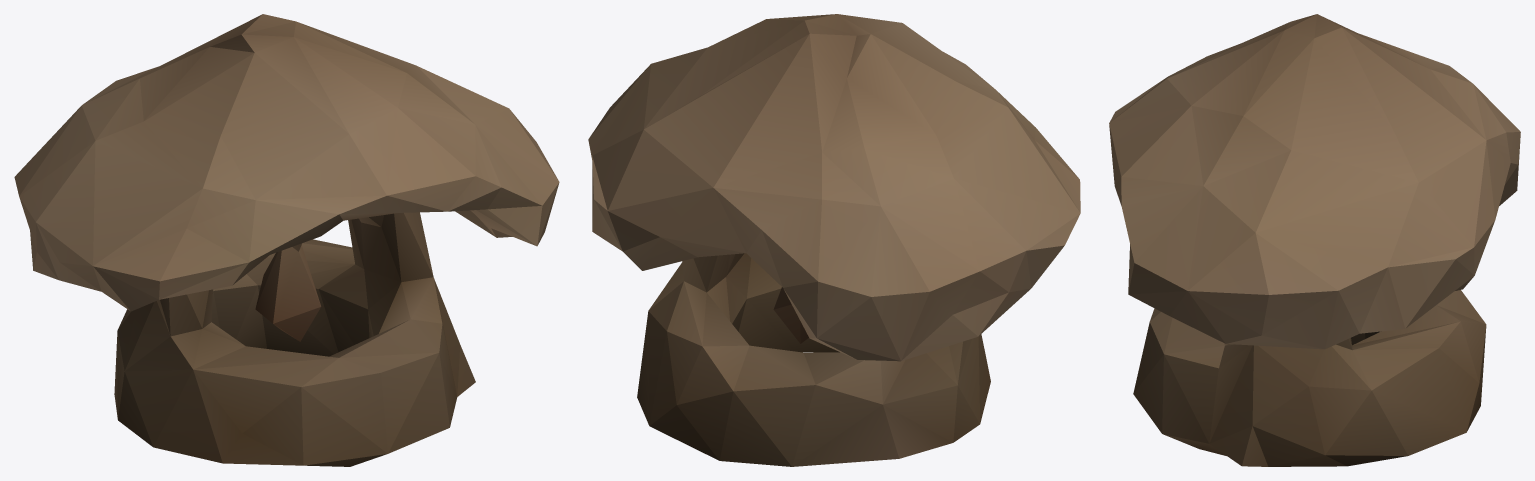
The model's file is well.glb.
3 renders of one model, left to right at view 1: azimuth 30°, elevation 25°; view 2: azimuth 150°, elevation 25°; view 3: azimuth 270°, elevation 25°, orthographic. The views are drawn at different scales.
Parts seen in each view (by area): view 1: model.001; view 2: model.001; view 3: model.001.
Part boxes in pixels (x1=…): model.001: x1=14, y1=14, x2=559, y2=466; model.001: x1=588, y1=14, x2=1080, y2=466; model.001: x1=1109, y1=14, x2=1520, y2=466.
Bounding box in the file's own units: 1.01 × 0.7865 × 0.7891.
